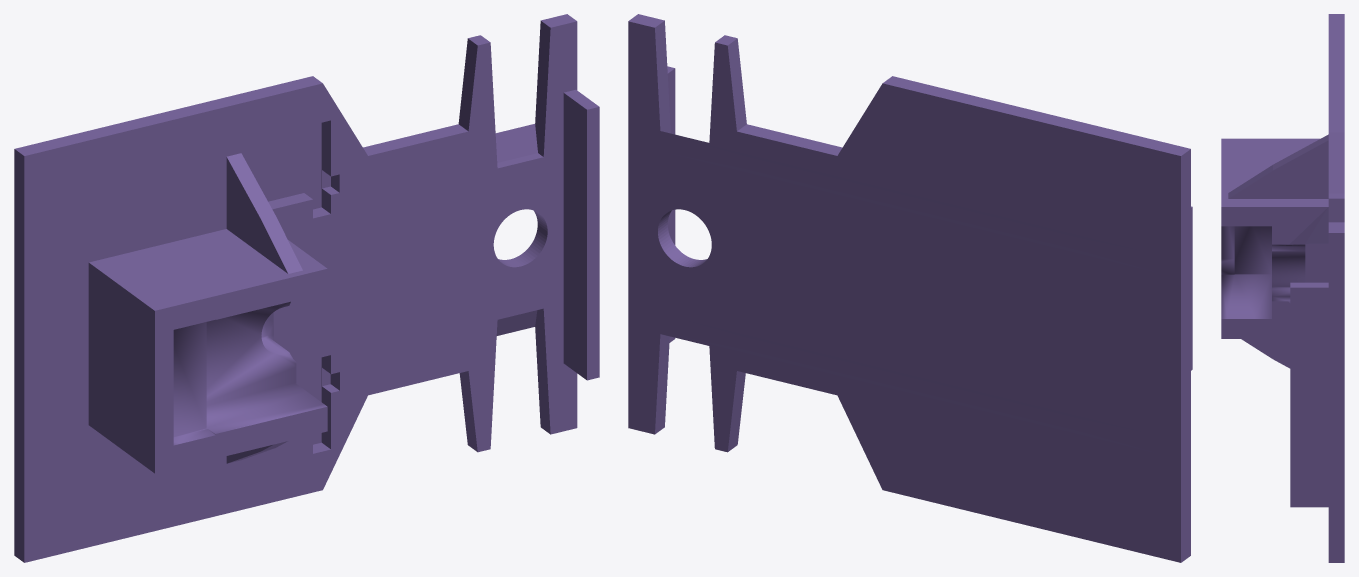
File: Front_Lower_Plate.obj
The picture shows the model from 3 angles, left to right: view 1: azimuth 30°, elevation 25°; view 2: azimuth 150°, elevation 25°; view 3: azimuth 270°, elevation 25°; orthographic projection. The views are drawn at different scales.
Parts seen in each view (by area): view 1: Cube.003_Cube.034; view 2: Cube.003_Cube.034; view 3: Cube.003_Cube.034.
Part boxes in pixels (x1,y1,x2,y2): Cube.003_Cube.034: (14, 14, 599, 562); Cube.003_Cube.034: (628, 14, 1192, 562); Cube.003_Cube.034: (1221, 14, 1344, 562).
Size of the model in its own units: 64 by 45 by 15.24.
